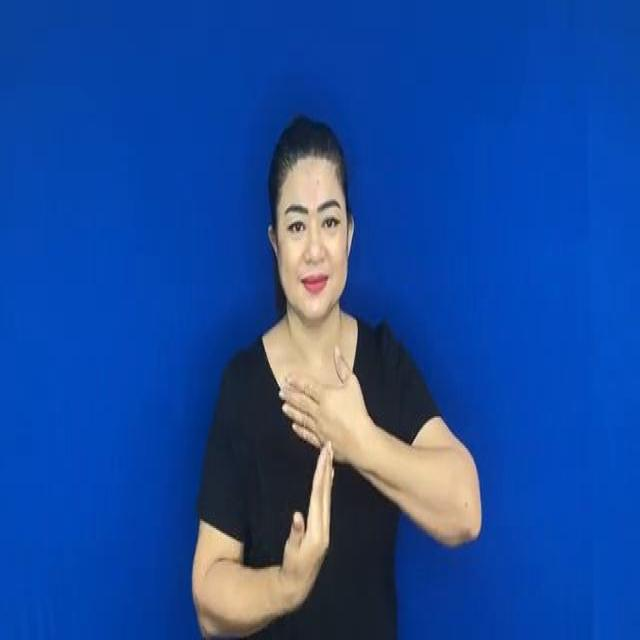bread: (255, 347, 389, 600)
